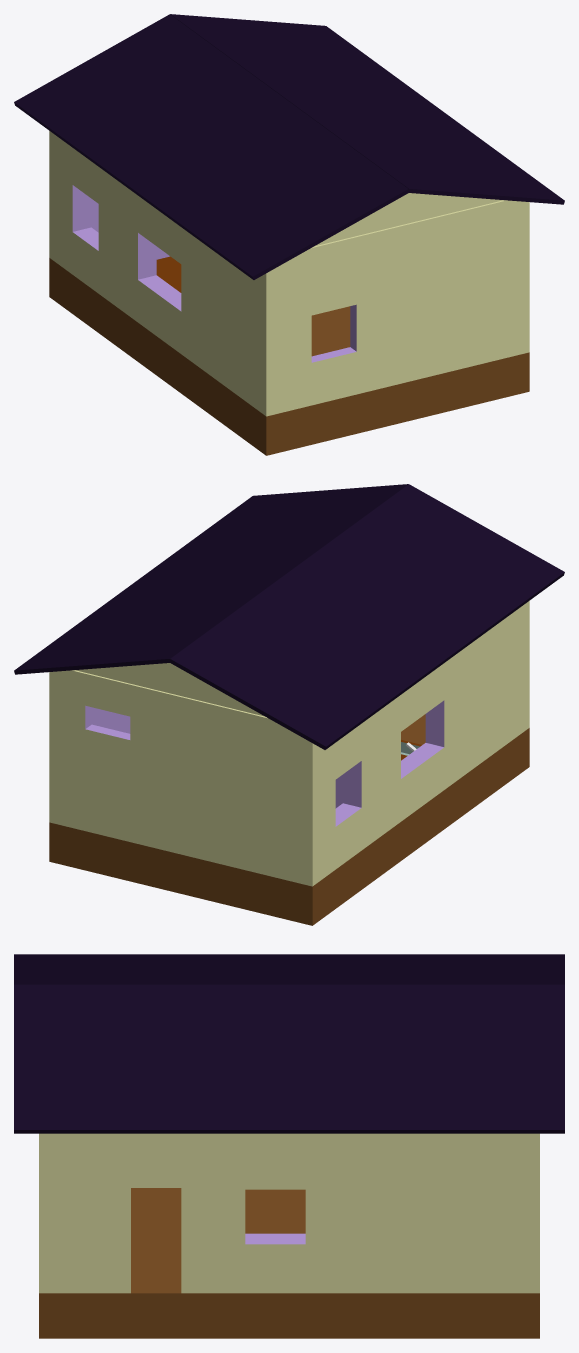
File: House.glb
3 renders of one model, top to bottom at view 1: azimuth 30°, elevation 25°; view 2: azimuth 150°, elevation 25°; view 3: azimuth 270°, elevation 25°, orthographic. The views are drawn at different scales.
Visible parts, largest first — view 1: Cube.012, Cube.001, Cube.004, Cube, Cube.013, Cube.002; view 2: Cube.012, Cube.002, Cube.004, Cube, Cube.013, Cube.001, Cube.003; view 3: Cube.012, Cube.003, Cube, Cube.001, Cube.002.
Boxes of the visible parts, box(x1,y1,x2,y2) form: Cube.012: box(14, 14, 564, 279); Cube.001: box(260, 200, 529, 416); Cube.004: box(55, 135, 259, 411); Cube: box(49, 258, 529, 455); Cube.013: box(315, 193, 503, 245); Cube.002: box(49, 131, 98, 261); Cube.012: box(14, 484, 564, 749); Cube.002: box(49, 670, 318, 886); Cube.004: box(319, 606, 522, 881); Cube: box(49, 714, 529, 925); Cube.013: box(75, 663, 264, 716); Cube.001: box(523, 601, 529, 732); Cube.003: box(91, 707, 130, 733); Cube.012: box(14, 954, 564, 1133); Cube.003: box(54, 1133, 524, 1293); Cube: box(39, 1188, 539, 1338); Cube.001: box(39, 1133, 54, 1293); Cube.002: box(525, 1133, 539, 1293).
Bounding box in the file's own units: 8.3 × 6.17 × 11.
